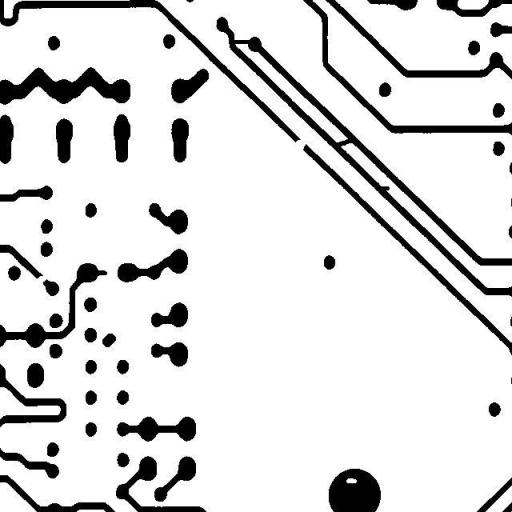copper: (94, 326, 124, 354)
open: (286, 132, 312, 157), (30, 268, 54, 291)
pin-hole: (338, 470, 364, 490)
short: (323, 131, 361, 154), (222, 32, 258, 51)
spur: (86, 262, 114, 284), (371, 178, 397, 198)
